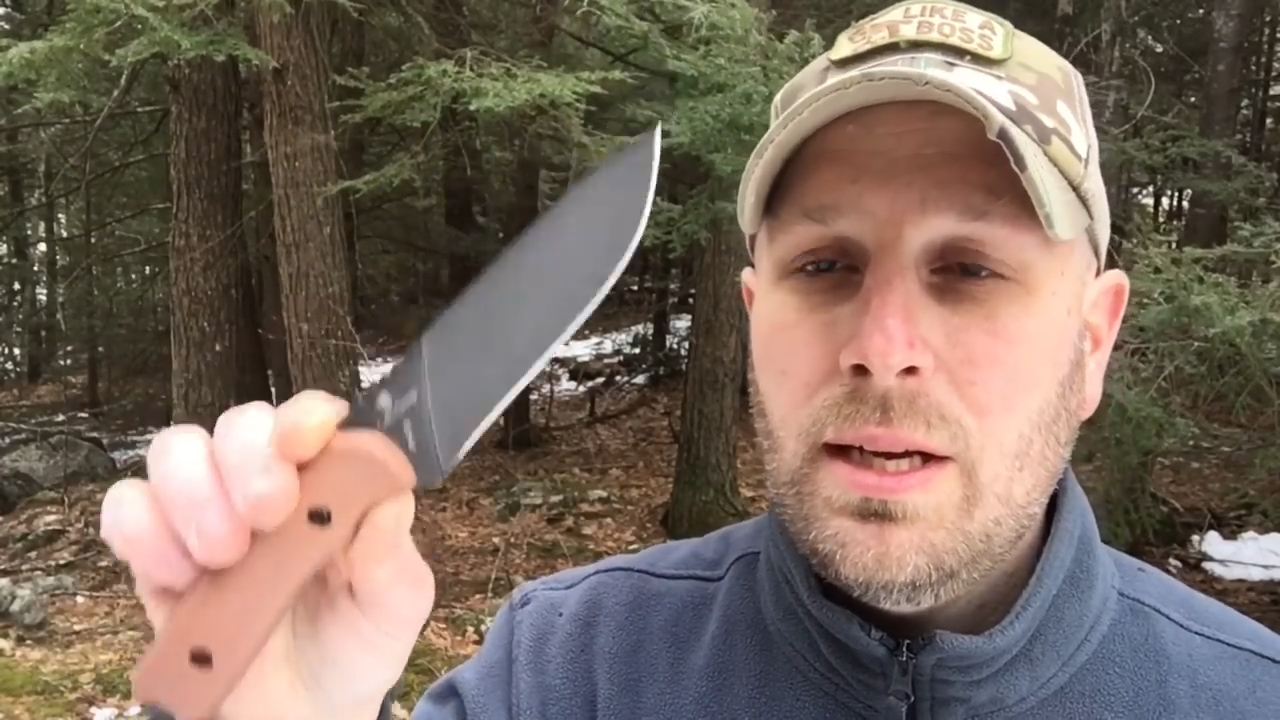knife: (195, 107, 677, 577)
